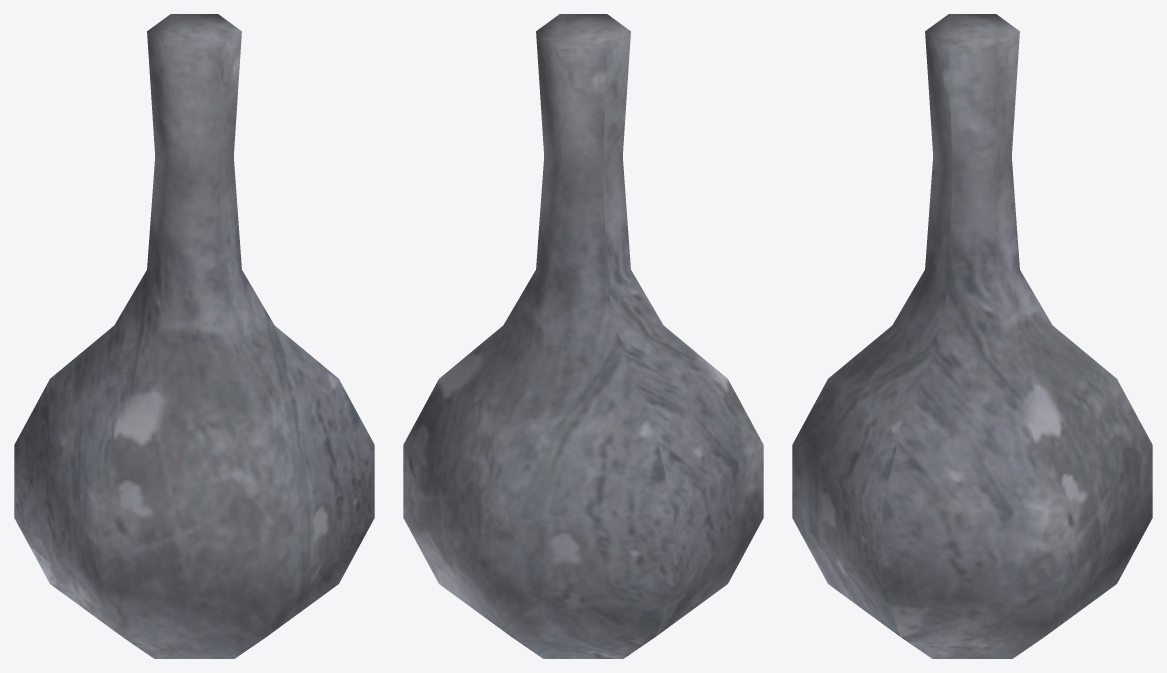
Rendered from acid_machine_bottle_empty01.dae.
3 views of the same model, side by side, from view 1: azimuth 30°, elevation 25°; view 2: azimuth 150°, elevation 25°; view 3: azimuth 270°, elevation 25° (orthographic).
Parts seen in each view (by area): view 1: acid_machine_bott_003; view 2: acid_machine_bott_003; view 3: acid_machine_bott_003.
Part boxes in pixels (bbox=[...]): acid_machine_bott_003: bbox=[14, 14, 374, 658]; acid_machine_bott_003: bbox=[403, 14, 763, 658]; acid_machine_bott_003: bbox=[792, 14, 1152, 658].
Bounding box in the file's own units: 0.2038 × 0.2353 × 0.4413.
Materials: 1 (1 with a texture image).
